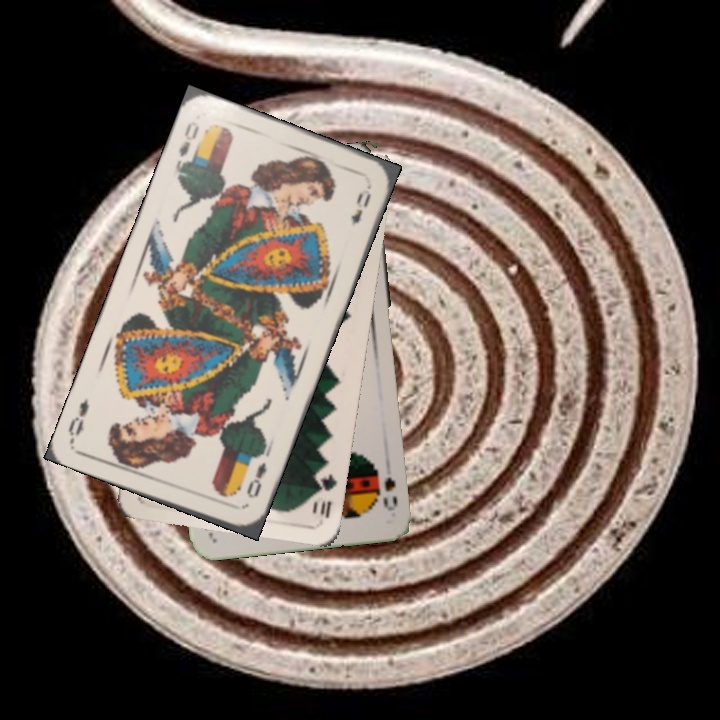EO: (172, 117, 203, 172), (242, 458, 270, 501)
G10: (311, 469, 340, 521)
SO: (379, 473, 400, 514)
